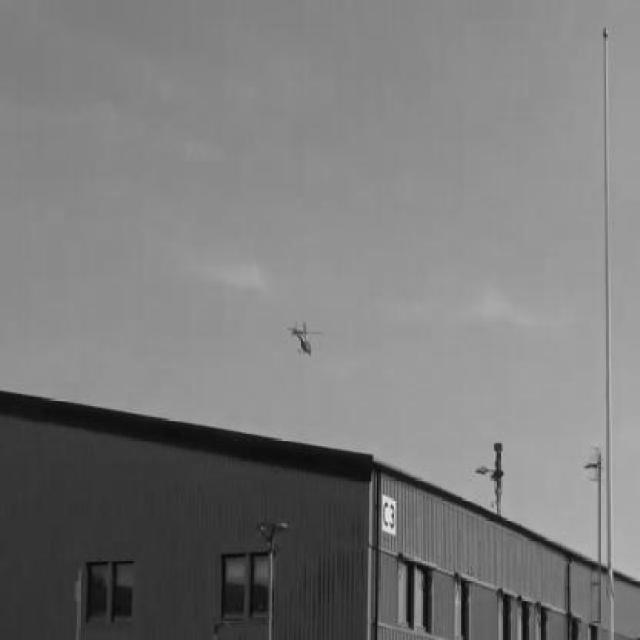helikopter: (287, 320, 321, 362)
